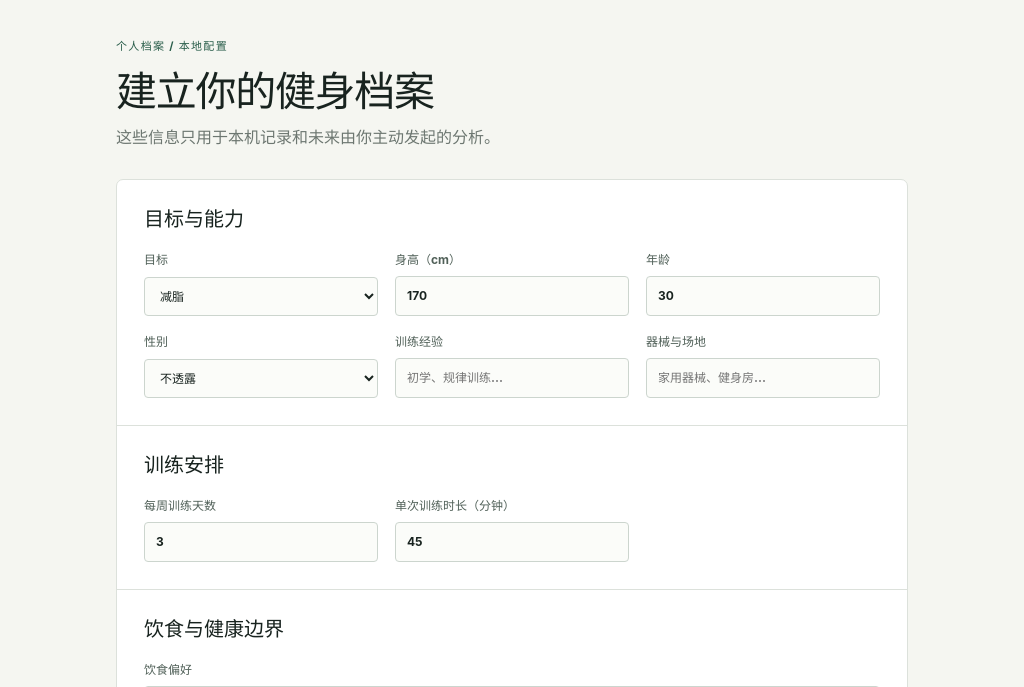
App › routes a first-time user to the profile page before the workbench
Expected: the heading "建立你的健身档案" is shown, 116,66 -> 434,116
Expected: the heading "今日工作台" is not shown
Select "维持" in the dropdown labelled "目标" at (261, 297), box 144,277 -> 378,316
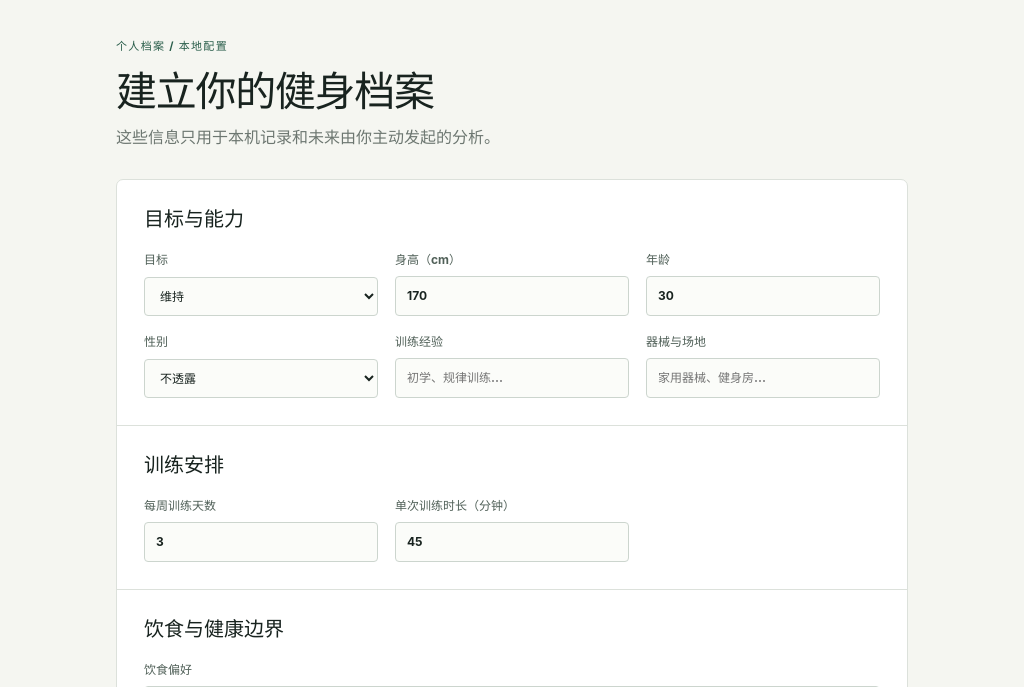
Type "初学" into the field labelled "训练经验" at (512, 378), box 395,358 -> 629,398
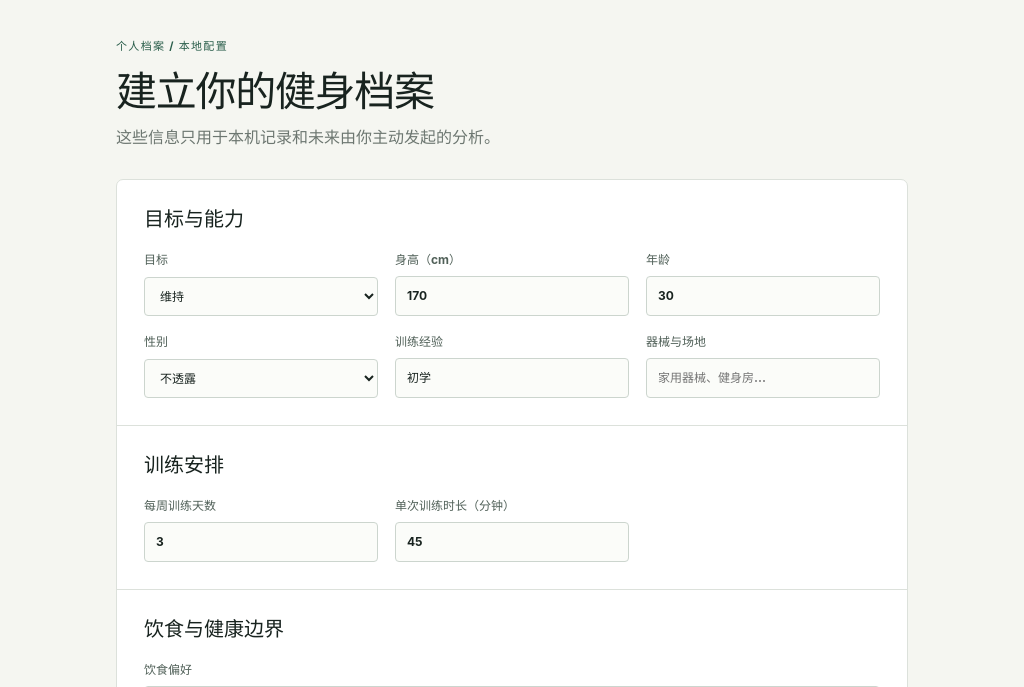
Type "无" into the field labelled "器械与场地" at (763, 378), box 646,358 -> 880,398
(page scrolled)
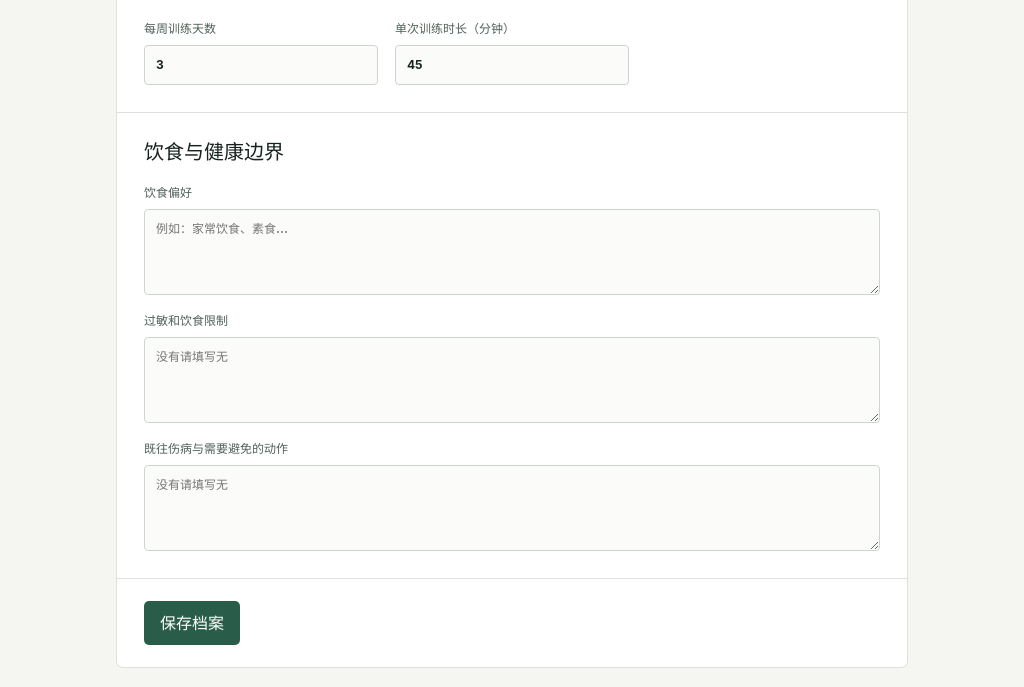
Click the button "保存档案" at (192, 623), box 144,601 -> 240,645
(page scrolled)
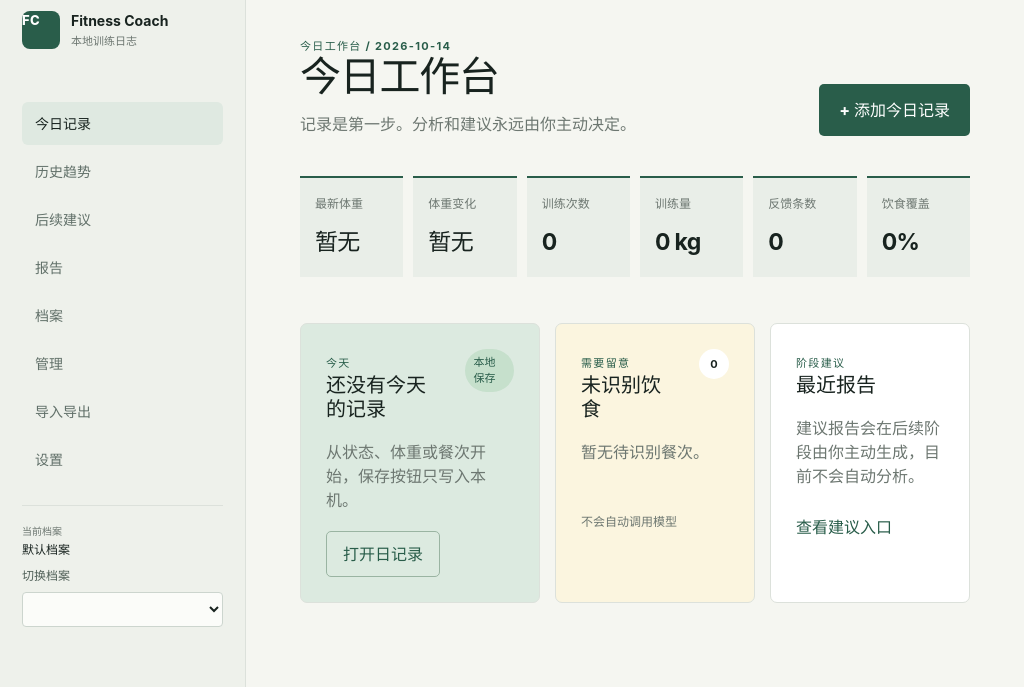
Expected: the heading "今日工作台" is shown, 300,50 -> 499,100
Expected: the element labelled "当前档案" shows "默认档案", 22,542 -> 70,556
